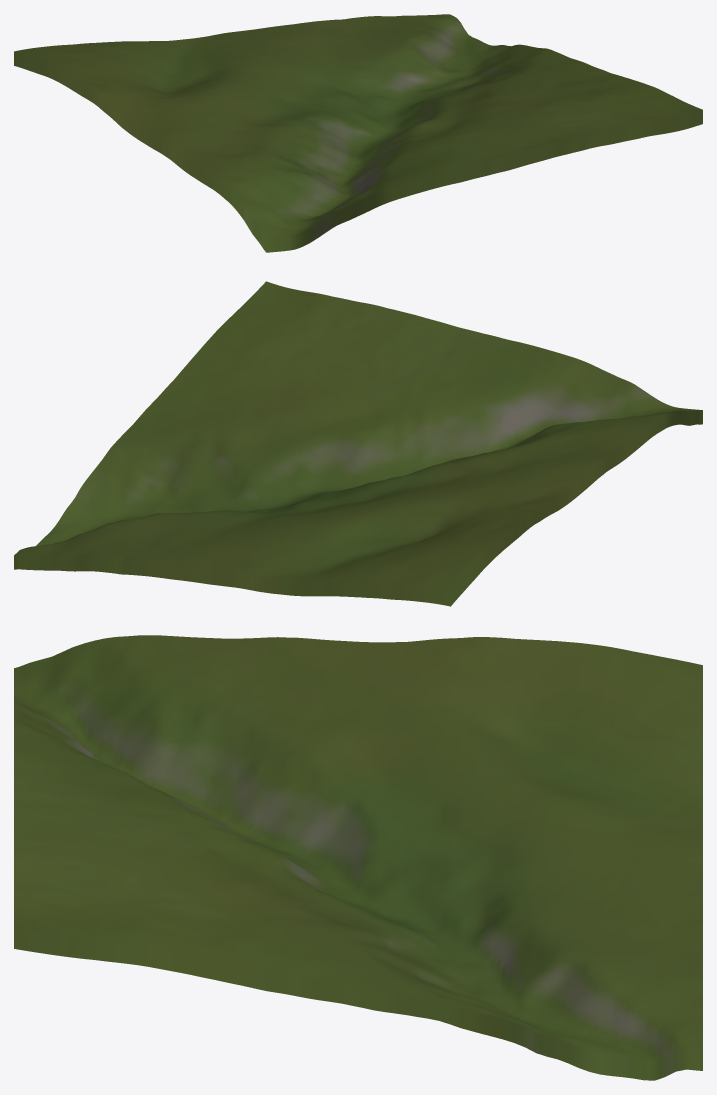
File: terrain_3_-9.glb
3 views of the same model, one above another, from view 1: azimuth 30°, elevation 25°; view 2: azimuth 150°, elevation 25°; view 3: azimuth 270°, elevation 25° (orthographic). The views are drawn at different scales.
Visible parts, largest first — view 1: terrain_3_-9; view 2: terrain_3_-9; view 3: terrain_3_-9.
Part boxes in pixels (x1,y1,x2,y2): terrain_3_-9: (14,14,702,252); terrain_3_-9: (14,281,702,606); terrain_3_-9: (14,635,702,1080).
Size of the model in its own units: 256 by 63.75 by 256.
